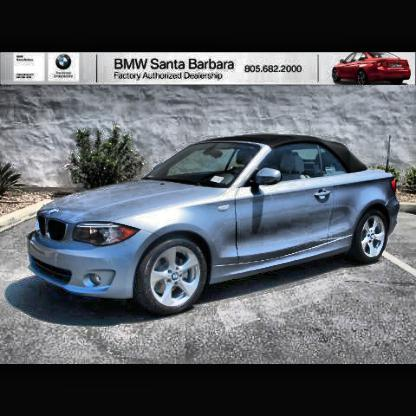BMW 1 Series Convertible 2012: (29, 137, 401, 315)
